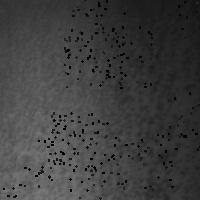pitted_surface: (1, 10, 197, 200), (48, 120, 108, 180), (64, 27, 123, 87), (93, 26, 151, 86), (66, 0, 124, 57), (111, 133, 171, 188), (38, 112, 94, 169), (69, 152, 122, 200), (167, 88, 200, 148), (0, 167, 47, 200), (167, 0, 200, 37)
